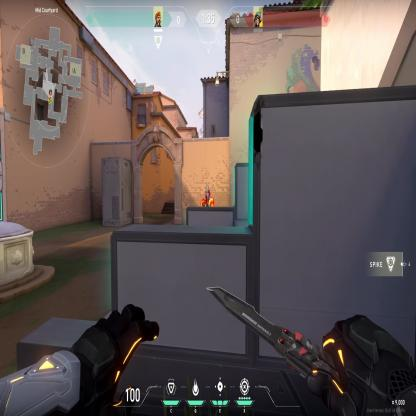enemy: (199, 184, 214, 206)
